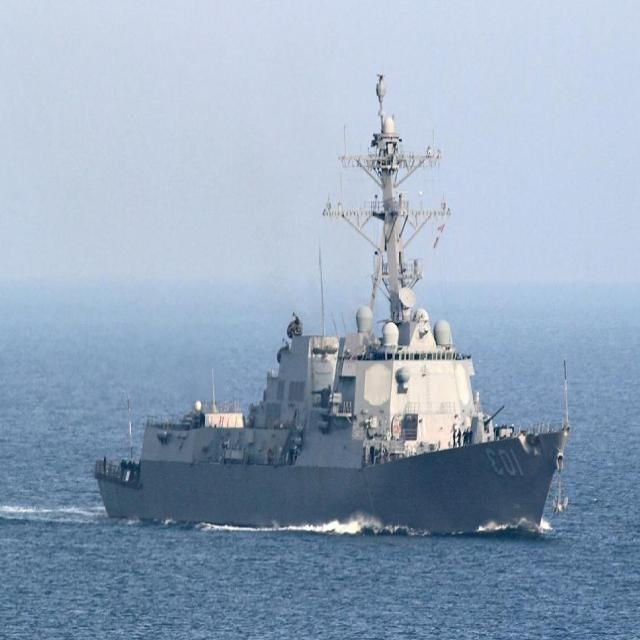navalvessels: (92, 78, 585, 552)
